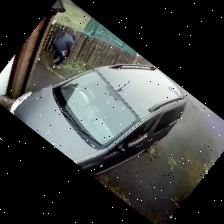person: (52, 32, 77, 69)
